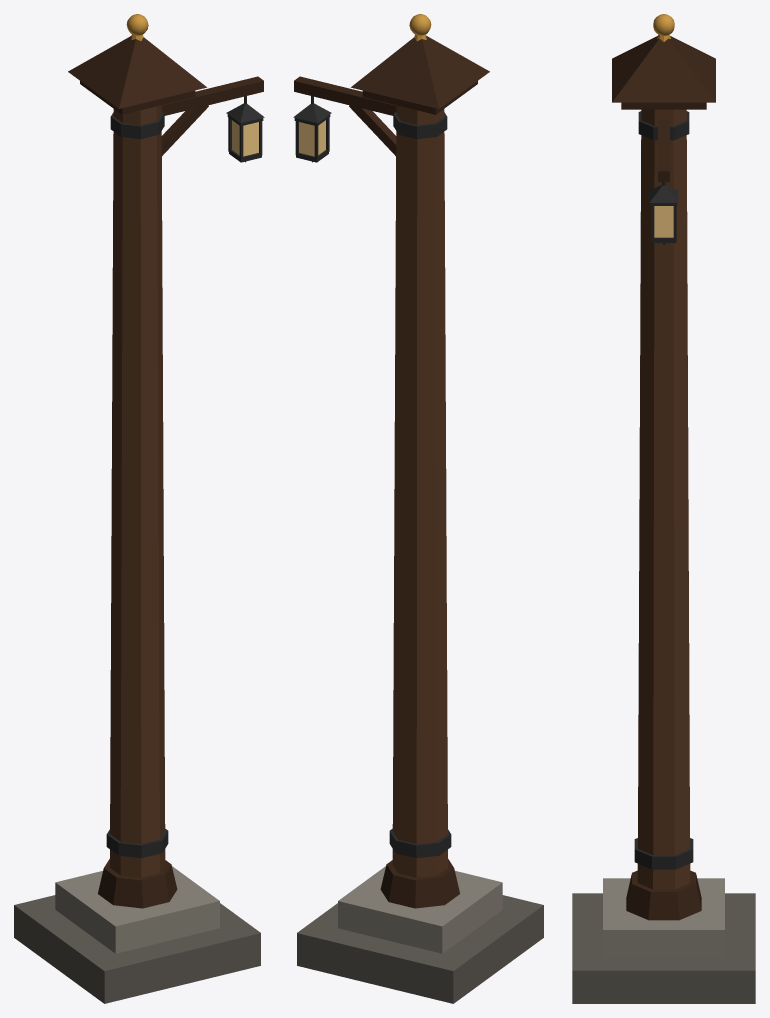
File: town-signpost.glb
3 views of the same model, side by side, from view 1: azimuth 30°, elevation 25°; view 2: azimuth 150°, elevation 25°; view 3: azimuth 270°, elevation 25° (orthographic).
Visible parts, largest first — view 1: post, plinth, step, roof, foot, arm, bandLow, bandHigh, brace, lanternGlass, capPlate; view 2: post, plinth, step, roof, foot, arm, bandLow, bandHigh, brace, lanternGlass, capPlate; view 3: post, plinth, step, roof, foot, bandLow, arm, capPlate, bandHigh, lanternGlass, lanternTop.
Part boxes in pixels (x1=…): post: x1=110, y1=105, x2=165, y2=877; plinth: x1=14, y1=895, x2=260, y2=1003; step: x1=55, y1=866, x2=219, y2=953; roof: x1=68, y1=36, x2=206, y2=108; foot: x1=98, y1=859, x2=177, y2=908; arm: x1=161, y1=76, x2=263, y2=115; bandLow: x1=106, y1=829, x2=168, y2=858; bandHigh: x1=110, y1=112, x2=164, y2=139; brace: x1=161, y1=105, x2=208, y2=155; lanternGlass: x1=232, y1=120, x2=258, y2=156; capPlate: x1=80, y1=81, x2=195, y2=114; post: x1=392, y1=105, x2=447, y2=877; plinth: x1=297, y1=895, x2=543, y2=1003; step: x1=338, y1=866, x2=502, y2=953; roof: x1=351, y1=36, x2=489, y2=108; foot: x1=380, y1=859, x2=459, y2=908; arm: x1=294, y1=76, x2=396, y2=115; bandLow: x1=389, y1=829, x2=451, y2=858; bandHigh: x1=393, y1=112, x2=447, y2=139; brace: x1=349, y1=105, x2=396, y2=155; lanternGlass: x1=299, y1=120, x2=325, y2=156; capPlate: x1=362, y1=81, x2=477, y2=114; post: x1=637, y1=109, x2=690, y2=889; plinth: x1=572, y1=893, x2=755, y2=1003; step: x1=603, y1=878, x2=724, y2=957; roof: x1=612, y1=36, x2=715, y2=102; foot: x1=626, y1=870, x2=701, y2=920; bandLow: x1=634, y1=838, x2=693, y2=869; arm: x1=658, y1=119, x2=669, y2=182; capPlate: x1=621, y1=102, x2=706, y2=109; bandHigh: x1=638, y1=111, x2=689, y2=140; lanternGlass: x1=654, y1=206, x2=673, y2=237; lanternTop: x1=649, y1=185, x2=678, y2=202.
Size of the model in its own units: 1.16 by 5.14 by 0.9.
